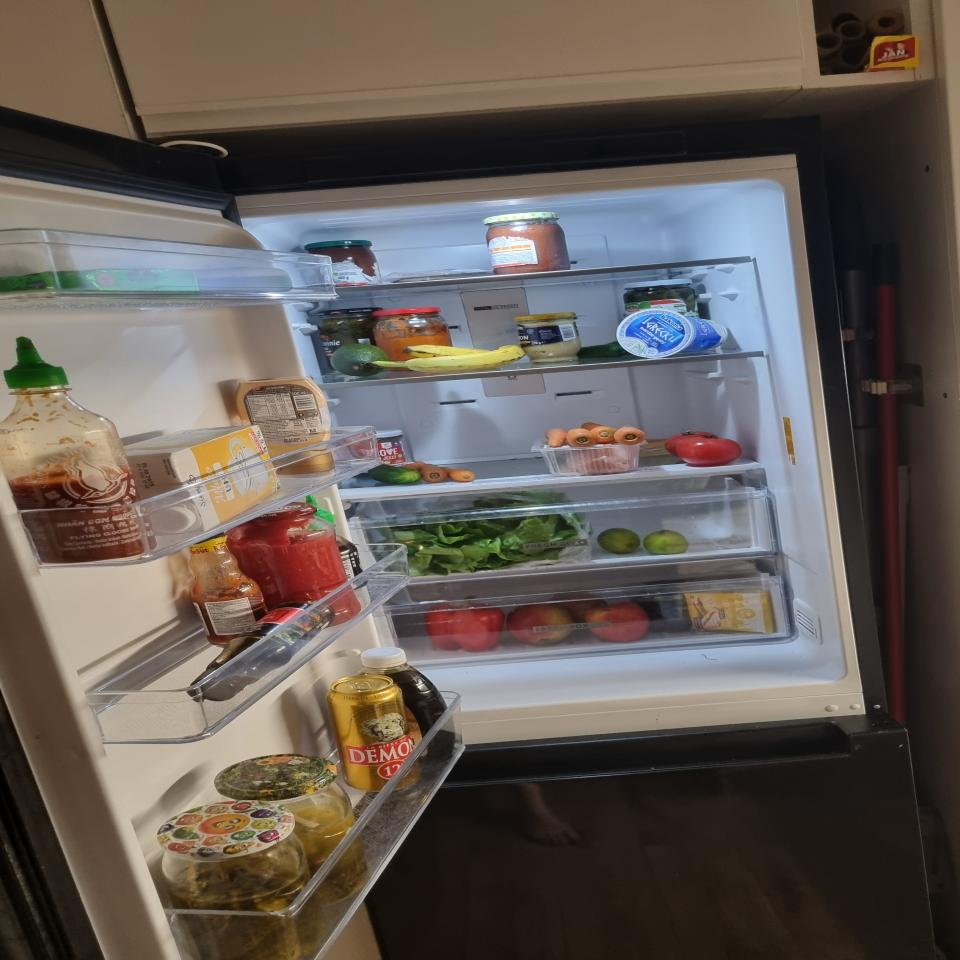Aguacate: (333, 346, 387, 376)
Leche: (116, 424, 280, 532)
Lechuga/Endivia: (386, 493, 582, 572)
Mantequilla: (0, 268, 200, 292), (684, 592, 775, 635)
Manzana: (586, 601, 648, 642), (509, 605, 572, 644)
Pepino: (373, 464, 419, 483), (581, 342, 629, 358)
Plátano: (374, 344, 525, 372)
Tomate: (680, 438, 742, 464)
Yogur: (616, 308, 726, 359)
Zanahoria: (544, 421, 644, 445), (413, 461, 477, 484)
bell pepper: (429, 598, 506, 654)
blueberries: (629, 589, 690, 632)
lime: (598, 528, 640, 554), (645, 530, 686, 555)
mustard: (513, 313, 580, 364)
